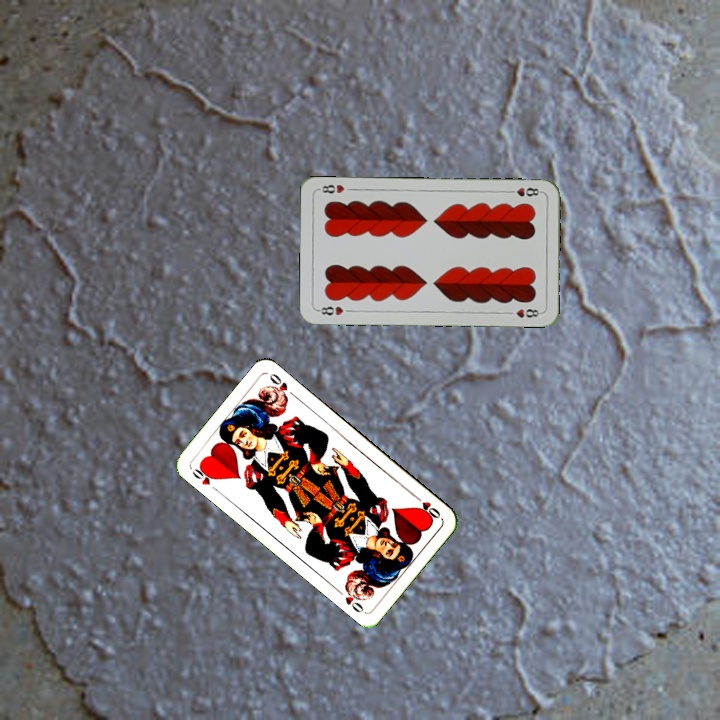H8: (504, 184, 544, 199), (314, 302, 346, 318)
HO: (410, 491, 443, 521), (188, 461, 218, 488)
